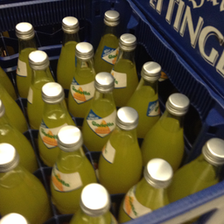soda: (98, 106, 144, 195), (50, 125, 97, 211), (141, 92, 189, 168), (38, 82, 73, 164), (82, 75, 117, 150), (108, 33, 138, 107)
